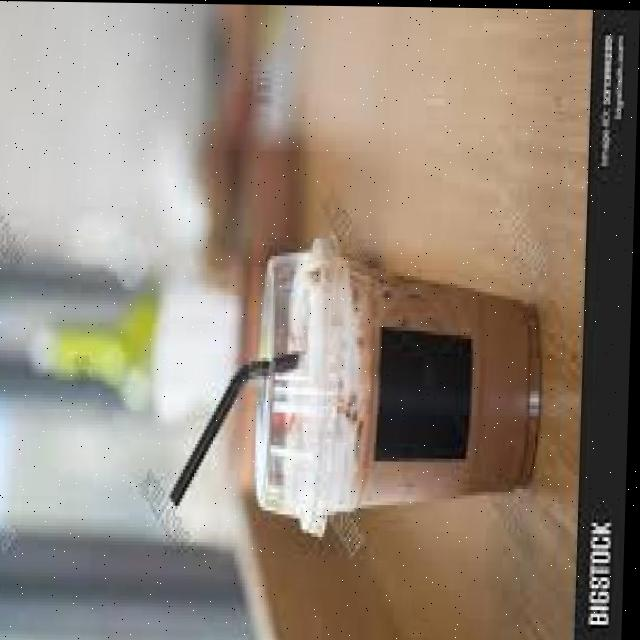cup: (329, 254, 542, 509)
